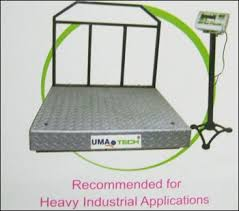Industrial Scale: (27, 1, 234, 153)
